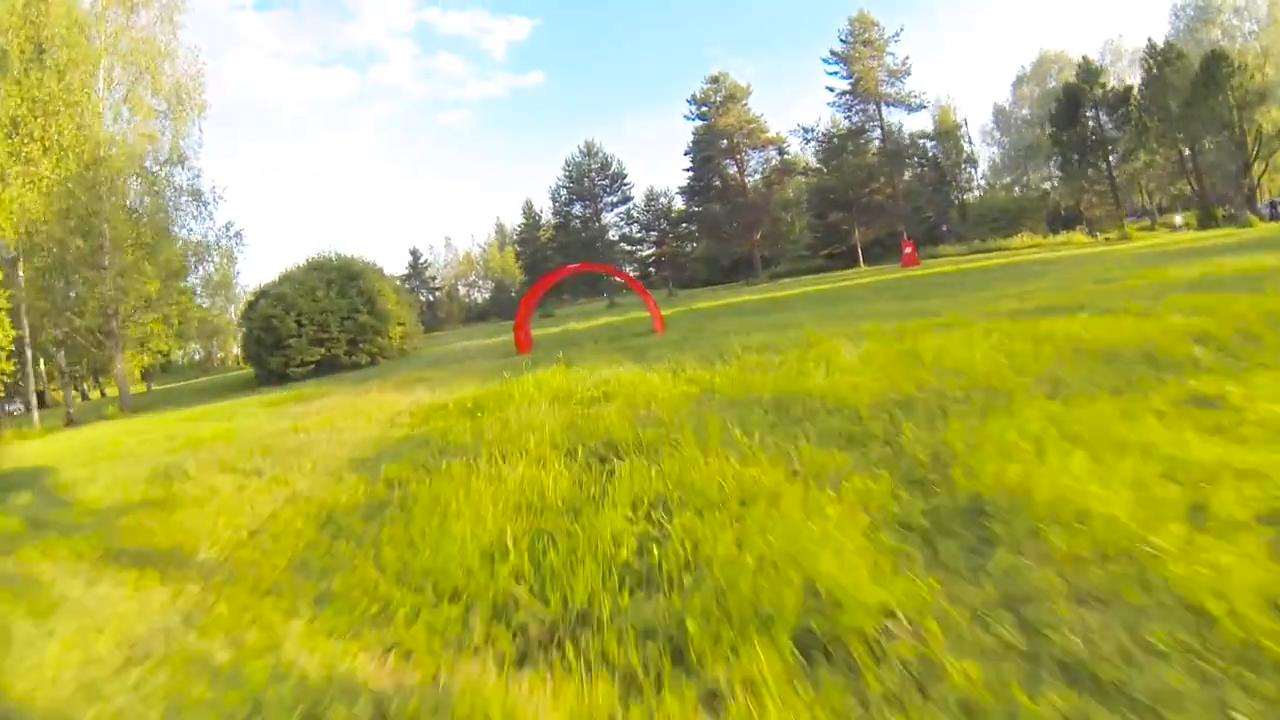gate: (512, 257, 669, 357)
